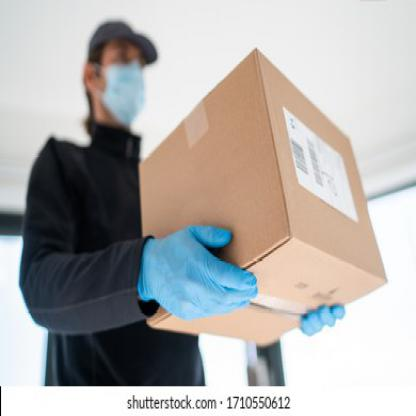with_gloves: (138, 224, 258, 318), (300, 303, 346, 336)
